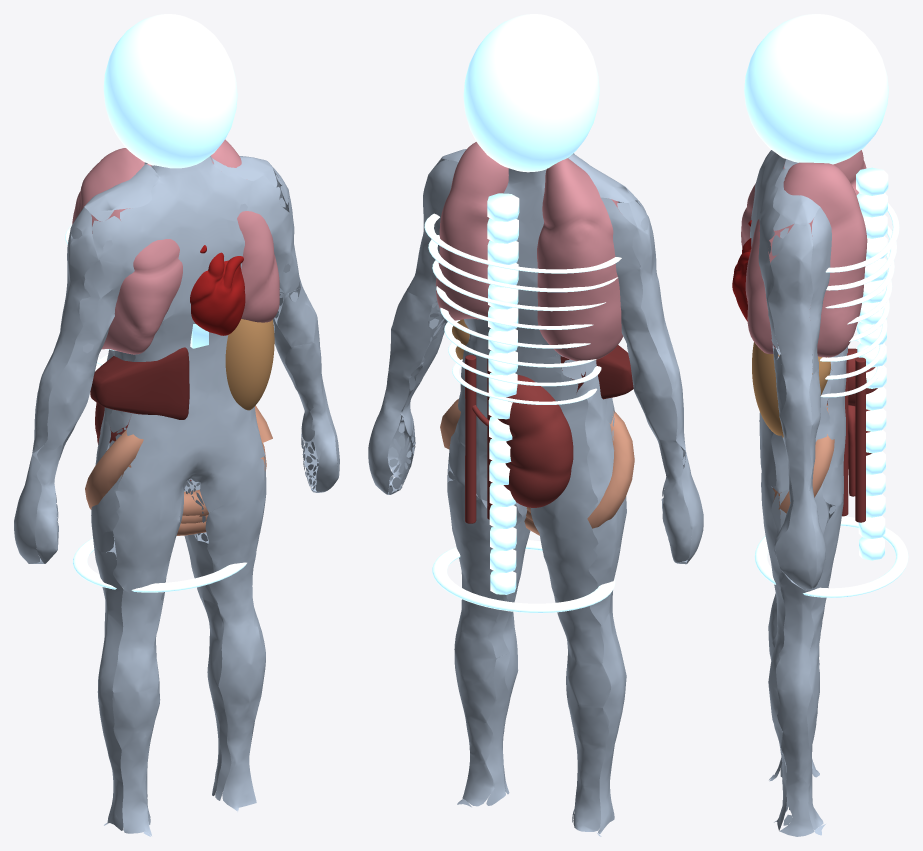
Rendered from twin.glb.
3 renders of one model, left to right at view 1: azimuth 30°, elevation 25°; view 2: azimuth 150°, elevation 25°; view 3: azimuth 270°, elevation 25°, orthographic. The views are drawn at different scales.
Visible parts, largest first — view 1: body_skin, skeleton, organ_lung_l, organ_liver, organ_stomach, organ_heart, organ_intestine; view 2: body_skin, skeleton, organ_lung_l, organ_kidney_l, organ_intestine, organ_liver; view 3: body_skin, skeleton, organ_lung_l, organ_kidney_l, organ_stomach, organ_intestine, organ_heart.
Boxes of the visible parts, box(x1,y1,x2,y2) form: body_skin: box(14, 155, 339, 836); skeleton: box(65, 14, 246, 592); organ_lung_l: box(72, 139, 279, 354); organ_liver: box(90, 347, 189, 419); organ_stomach: box(225, 319, 274, 410); organ_heart: box(190, 245, 245, 335); organ_intestine: box(85, 405, 272, 535); body_skin: box(368, 149, 703, 836); skeleton: box(424, 14, 621, 613); organ_lung_l: box(436, 142, 623, 361); organ_kidney_l: box(465, 354, 573, 523); organ_intestine: box(440, 399, 634, 535); organ_liver: box(560, 345, 633, 399); body_skin: box(750, 150, 847, 836); skeleton: box(744, 14, 908, 597); organ_lung_l: box(741, 150, 867, 357); organ_kidney_l: box(827, 348, 877, 522); organ_stomach: box(752, 342, 830, 437); organ_intestine: box(772, 403, 834, 519); organ_heart: box(732, 220, 751, 321).
Bounding box in the file's own units: 0.3643 × 0.8558 × 0.1747.
